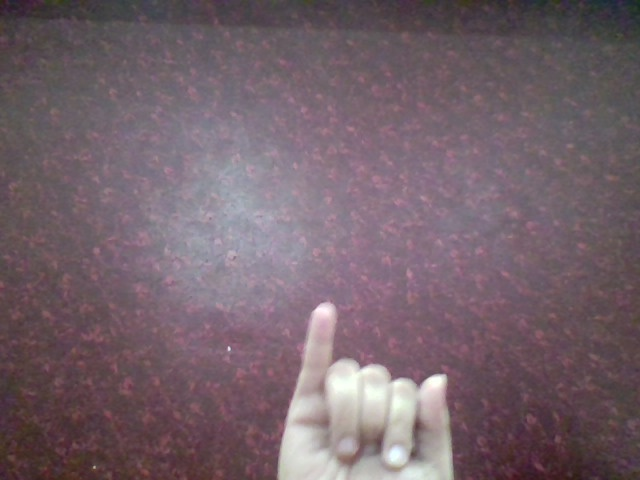i: (265, 288, 474, 480)
